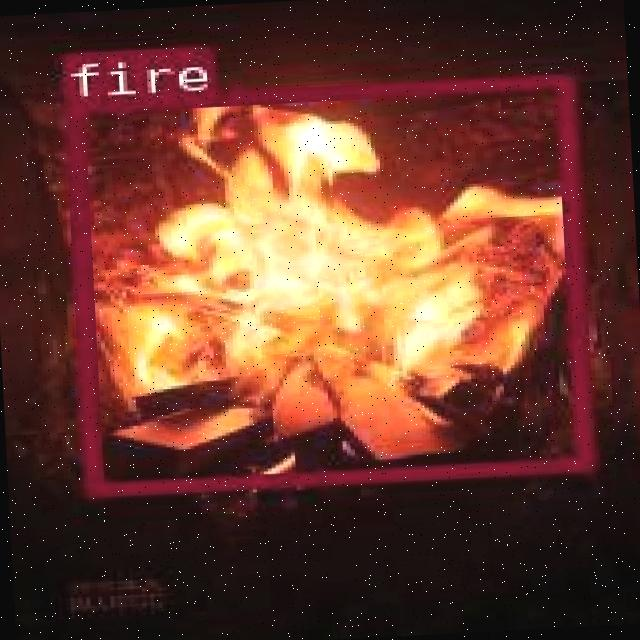fire: (62, 72, 590, 494)
